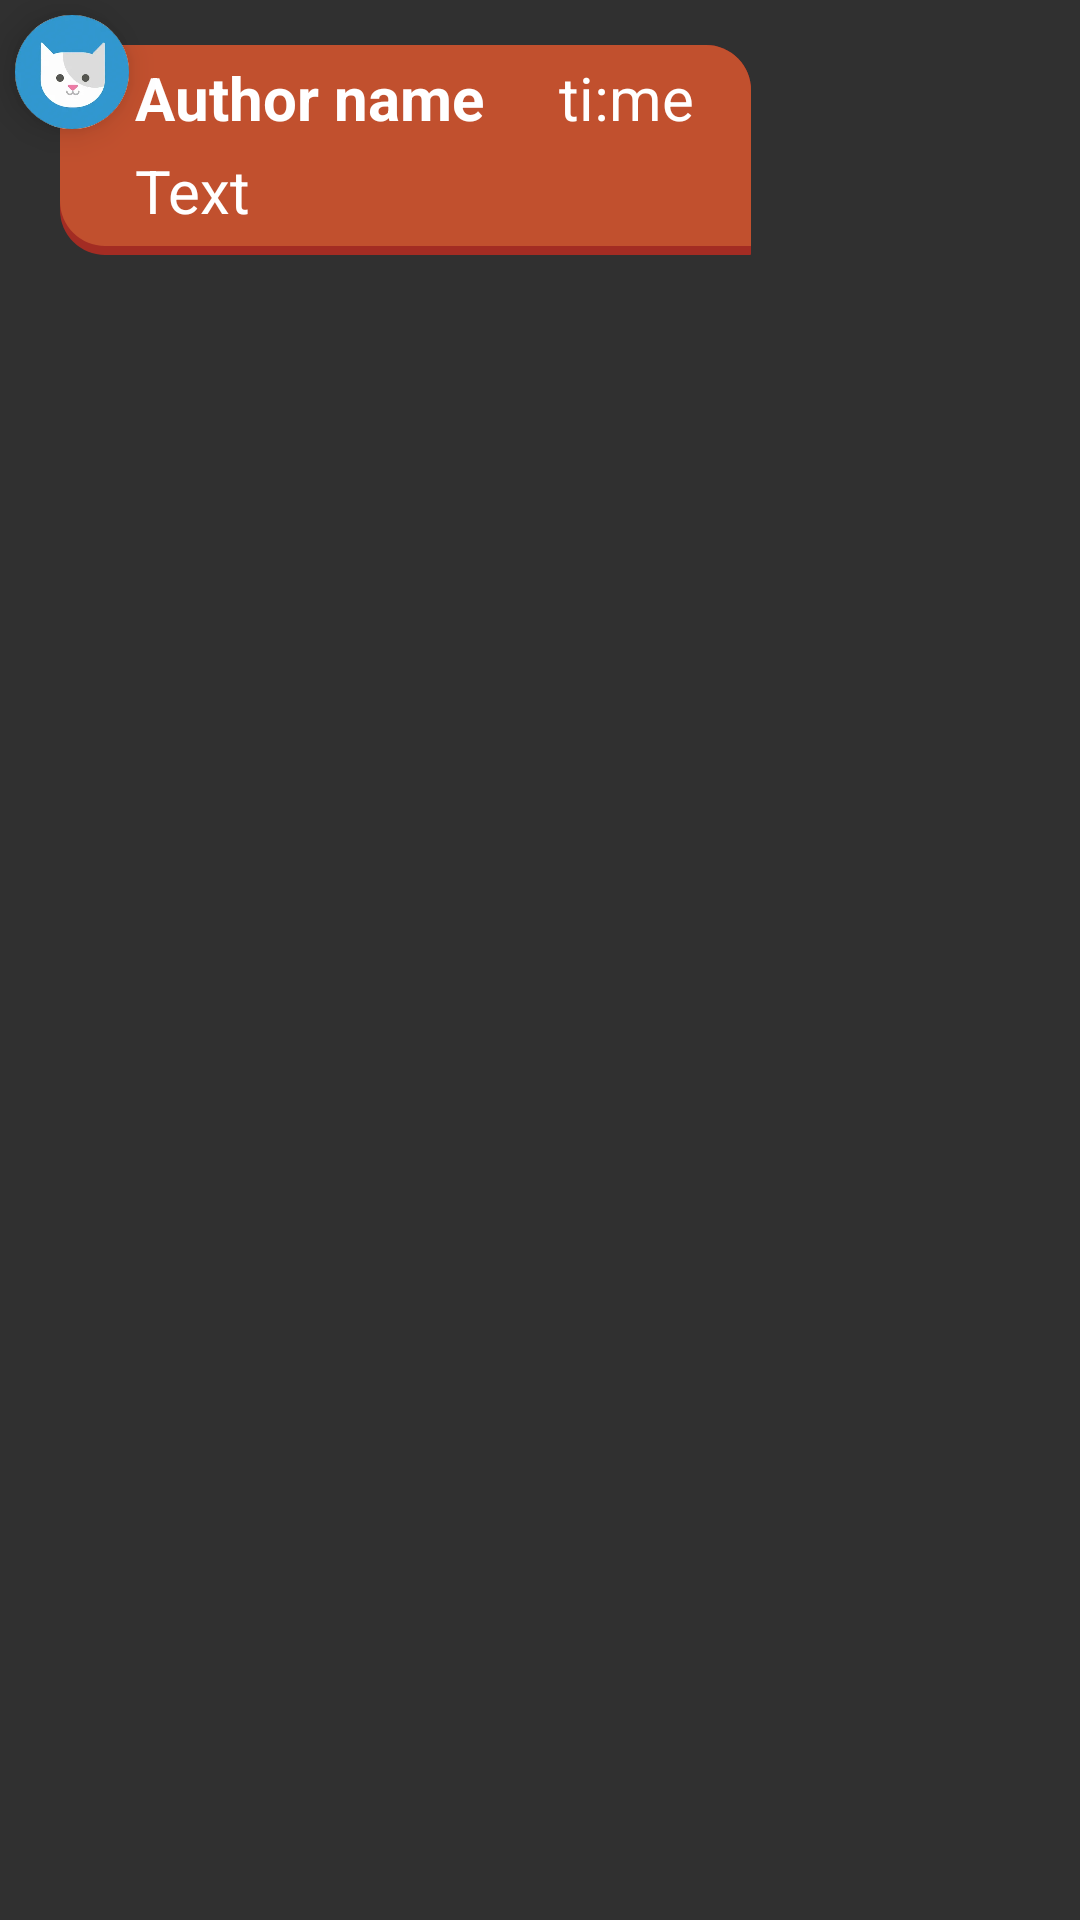

Icon click points for this 1080 x 1920 phone screenshot, format point (x, y):
kitty: point (72, 72)
